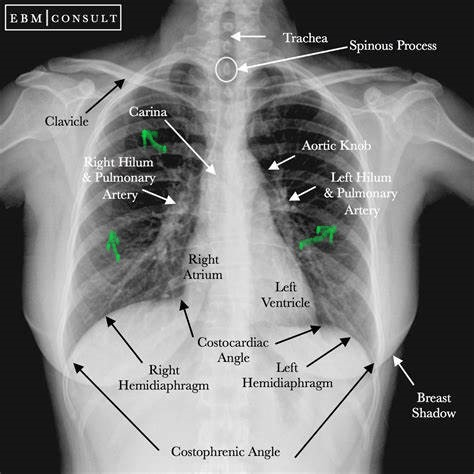telestration: (71, 362, 159, 452), (292, 361, 374, 457), (81, 155, 158, 201), (321, 172, 399, 217), (236, 43, 345, 72), (161, 118, 214, 174), (242, 360, 334, 389), (117, 365, 212, 391), (101, 314, 146, 367), (195, 336, 270, 363), (305, 334, 350, 369), (259, 282, 313, 310), (83, 77, 123, 113), (181, 251, 226, 282), (169, 445, 282, 457), (412, 392, 455, 421), (348, 39, 438, 52), (293, 223, 337, 248), (273, 323, 321, 345), (176, 295, 199, 338), (301, 138, 373, 151), (390, 355, 417, 388), (139, 126, 167, 155), (281, 30, 330, 46), (100, 230, 123, 264), (212, 55, 238, 83), (127, 103, 168, 118), (42, 114, 88, 127), (142, 187, 174, 205), (267, 151, 294, 170), (287, 183, 315, 201), (231, 31, 268, 42)
